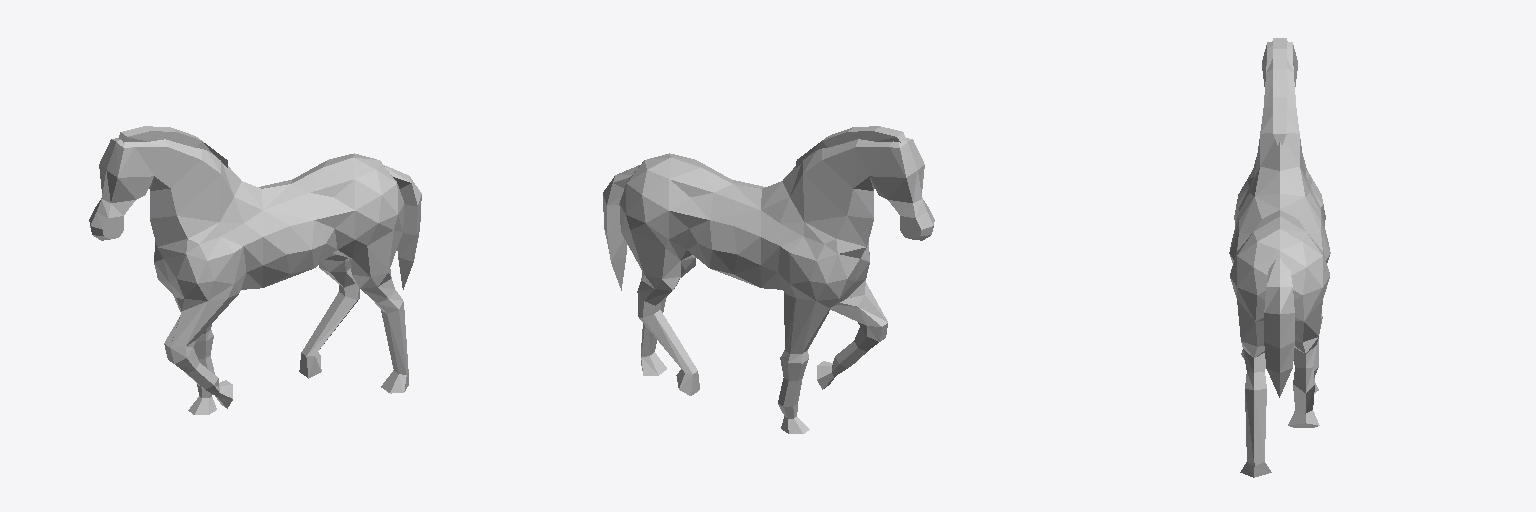
Rendered from horse.obj.
3 renders of one model, left to right at view 1: azimuth 30°, elevation 25°; view 2: azimuth 150°, elevation 25°; view 3: azimuth 270°, elevation 25°, orthographic.
Parts seen in each view (by area): view 1: horse; view 2: horse; view 3: horse.
Part boxes in pixels (x1,y1,x2,y2): horse: (89,126,421,414); horse: (603,126,934,433); horse: (1229,38,1330,477).
Size of the model in its own units: 4.15 by 3.69 by 1.1.